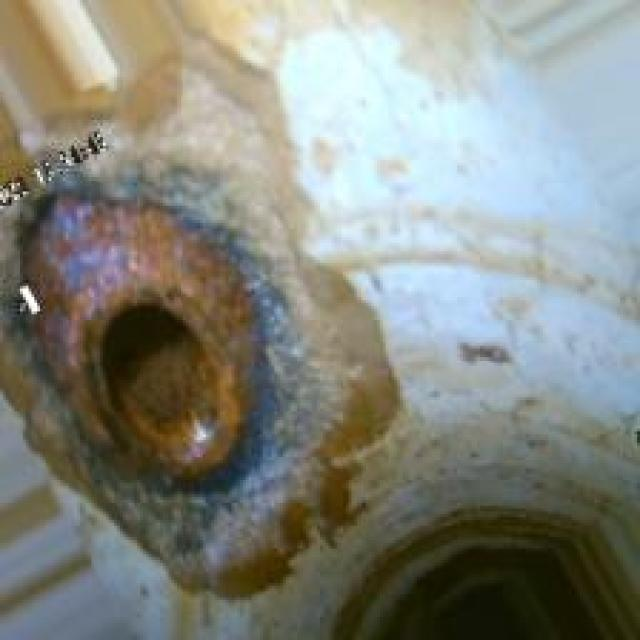ferrule: (54, 226, 280, 491)
